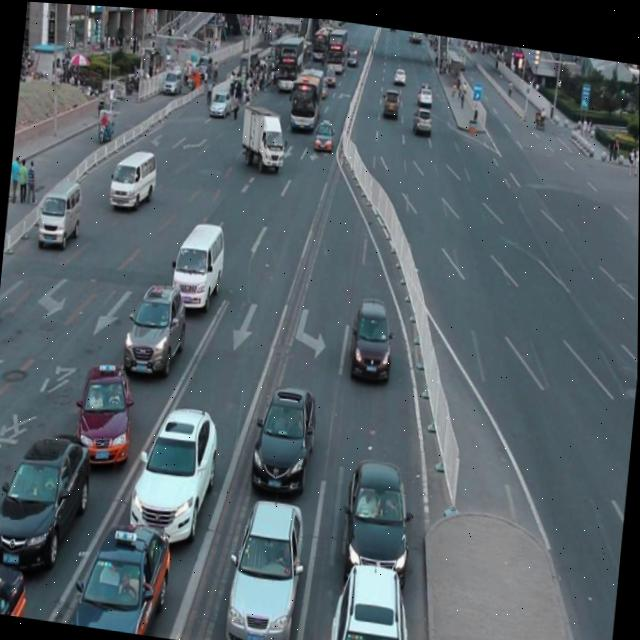bus: (238, 100, 288, 168)
car: (0, 418, 96, 579), (126, 392, 221, 546), (62, 506, 174, 636), (222, 483, 307, 640), (338, 445, 417, 580), (326, 547, 420, 640), (247, 374, 319, 494), (120, 272, 189, 377), (73, 356, 137, 468), (346, 287, 396, 380), (0, 556, 31, 618)
truck: (168, 213, 228, 312), (108, 142, 159, 212), (38, 173, 84, 247)
